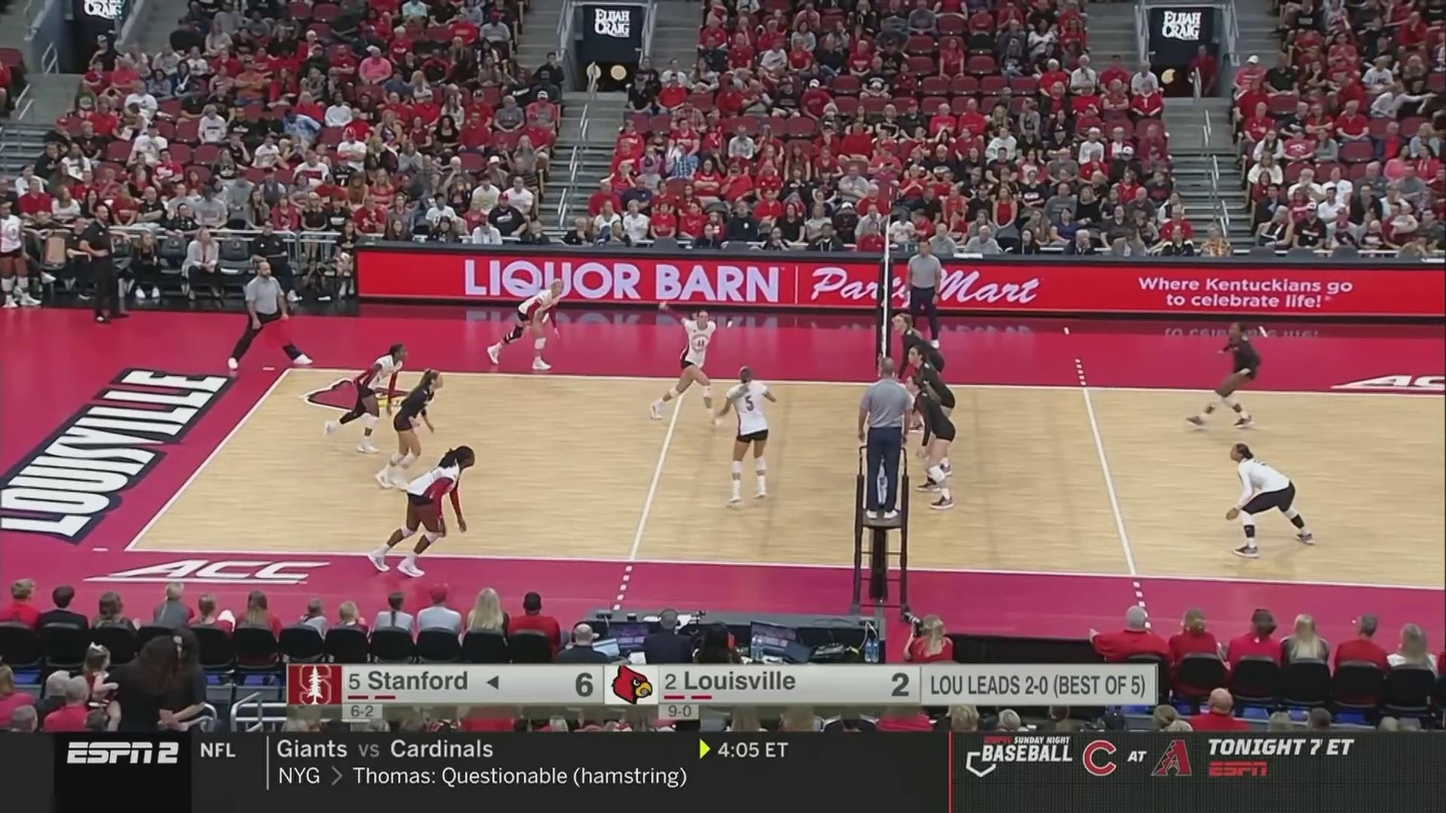player: (377, 446, 476, 576), (305, 341, 412, 455), (1226, 447, 1318, 557), (720, 371, 787, 509), (643, 307, 722, 424), (379, 360, 445, 487), (910, 352, 963, 510), (1193, 324, 1268, 430), (482, 282, 565, 372), (909, 346, 960, 480)
refree: (224, 257, 314, 372), (855, 363, 913, 524), (896, 236, 948, 354)
